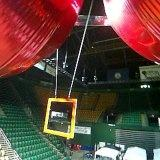Orange_Square_GShape: (44, 98, 77, 137)
